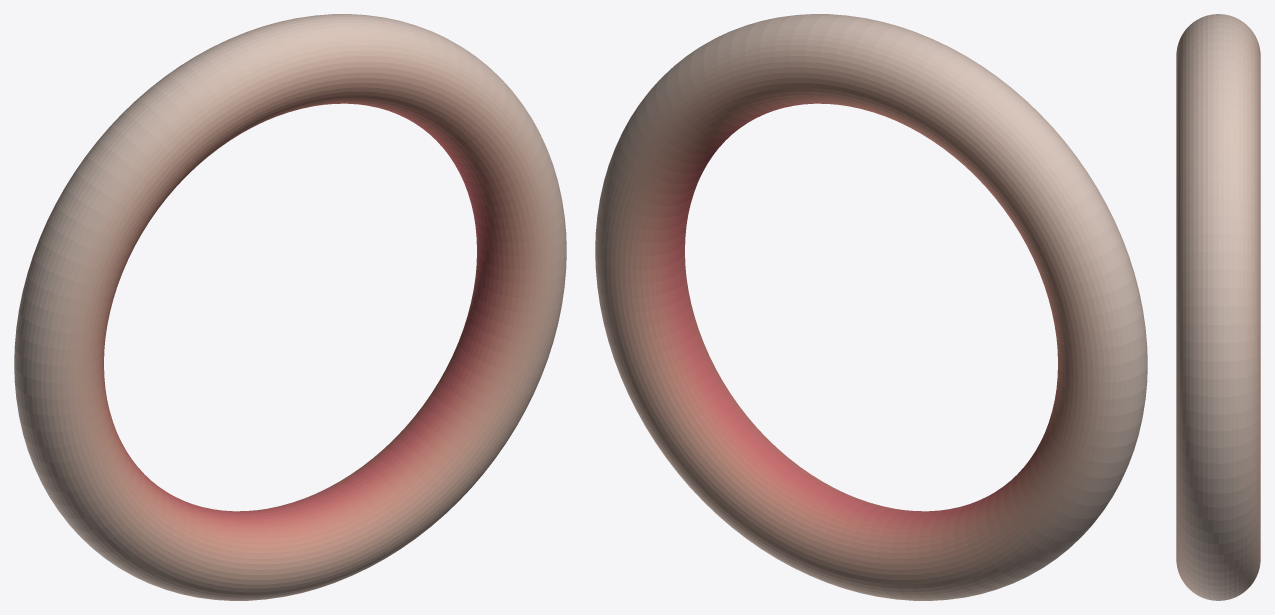
The picture shows the model from 3 angles, left to right: view 1: azimuth 30°, elevation 25°; view 2: azimuth 150°, elevation 25°; view 3: azimuth 270°, elevation 25°; orthographic projection. The views are drawn at different scales.
Parts seen in each view (by area): view 1: world; view 2: world; view 3: world.
Boxes of the visible parts, <box> form: world: <box>14,14,566,600</box>; world: <box>595,14,1147,600</box>; world: <box>1176,14,1260,600</box>.
Size of the model in its own units: 32.44 by 32.44 by 4.66.
